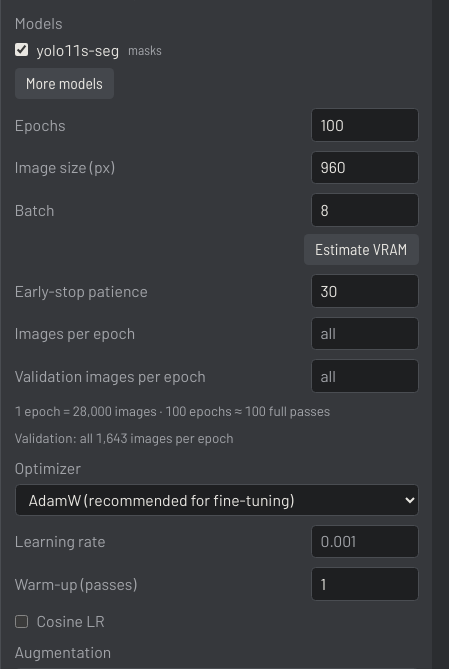
Test: TrainSidebar images per epoch › keeps Start off while images per epoch is below the batch size
(page scrolled)
Type "4" into the number field labelled "Images per epoch" at (364, 333), box [310, 317, 418, 350]
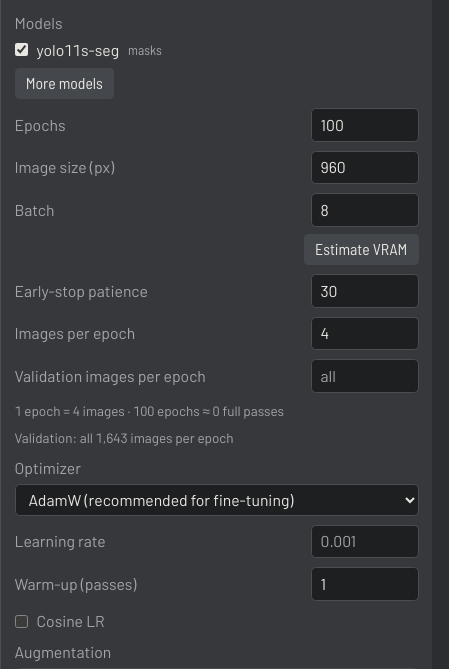
Replace the text in the number field labelled "Images per epoch" with "8" at (364, 333), box [310, 317, 418, 350]
(page scrolled)
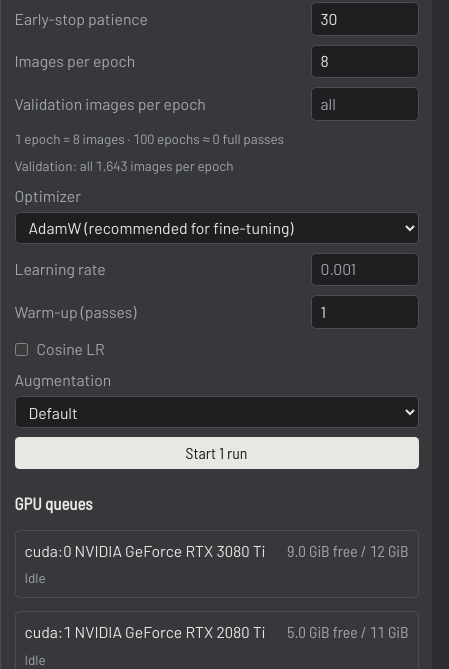
Expected: the button "Start 1 run" is enabled, [14, 437, 418, 469]
